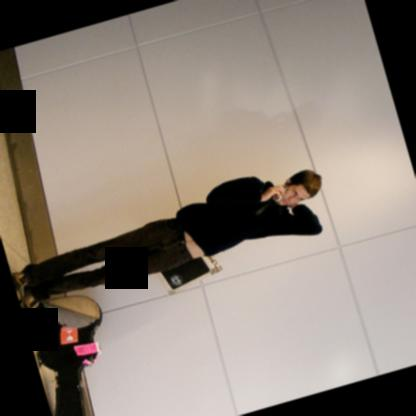handbag: (154, 256, 222, 295)
